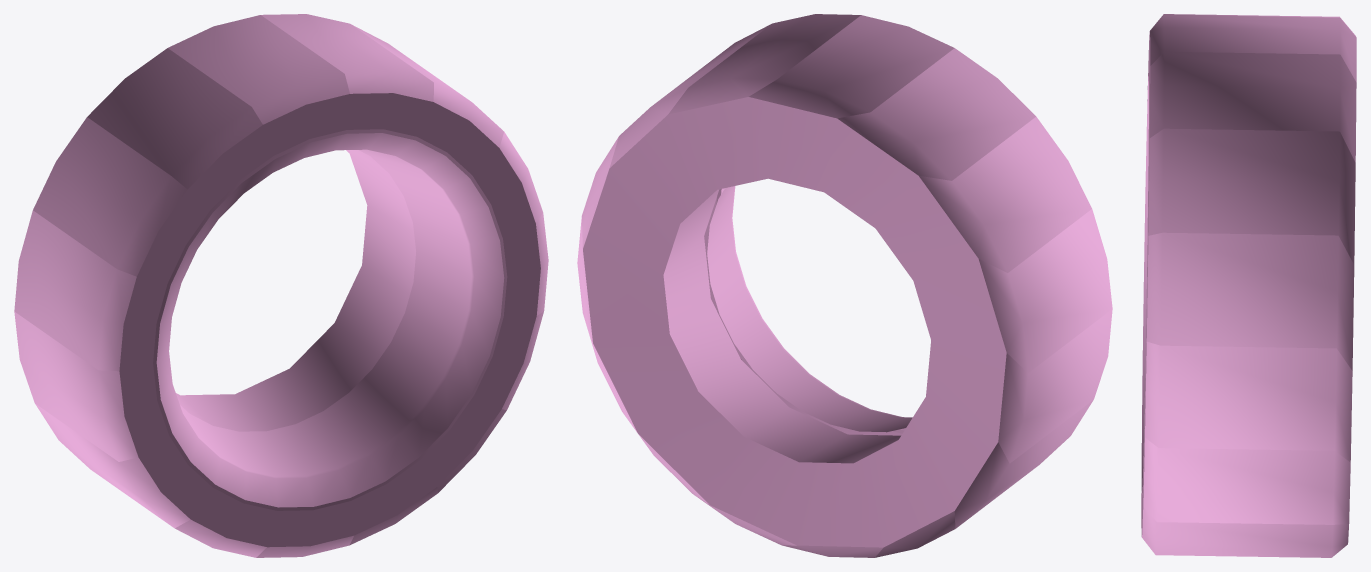
Rendered from Llanta2.obj.
The picture shows the model from 3 angles, left to right: view 1: azimuth 30°, elevation 25°; view 2: azimuth 150°, elevation 25°; view 3: azimuth 270°, elevation 25°; orthographic projection. The views are drawn at different scales.
Parts seen in each view (by area): view 1: TireRL; view 2: TireRL; view 3: TireRL.
Boxes of the visible parts, <box> form: TireRL: <box>14,14,548,557</box>; TireRL: <box>577,14,1112,557</box>; TireRL: <box>1141,14,1356,557</box>.
Size of the model in its own units: 0.7431 by 0.7431 by 0.2942.
